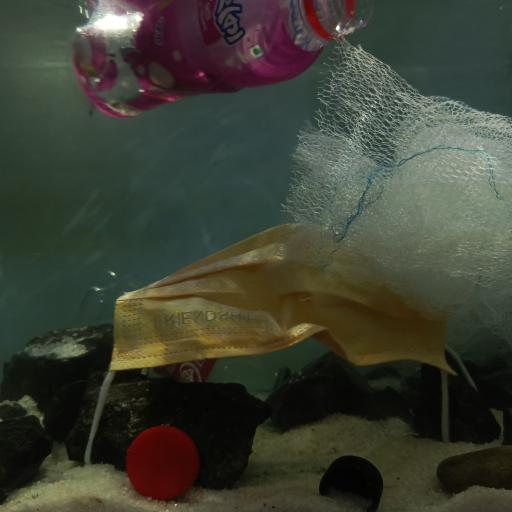bottle_cap: (126, 426, 199, 499), (319, 454, 384, 512)
mask: (85, 221, 479, 423)
net: (277, 25, 512, 352)
plastic_bottle: (70, 0, 374, 120), (76, 268, 292, 396)
